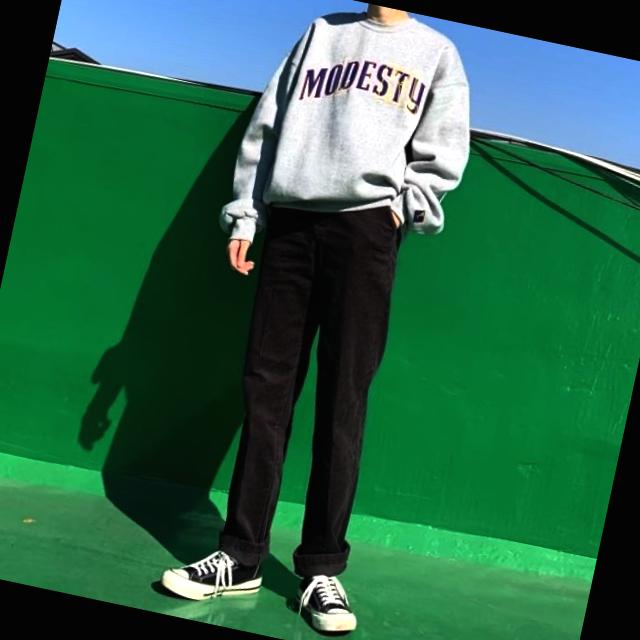denimpants: (204, 190, 423, 590)
mtm: (221, 0, 499, 285)
